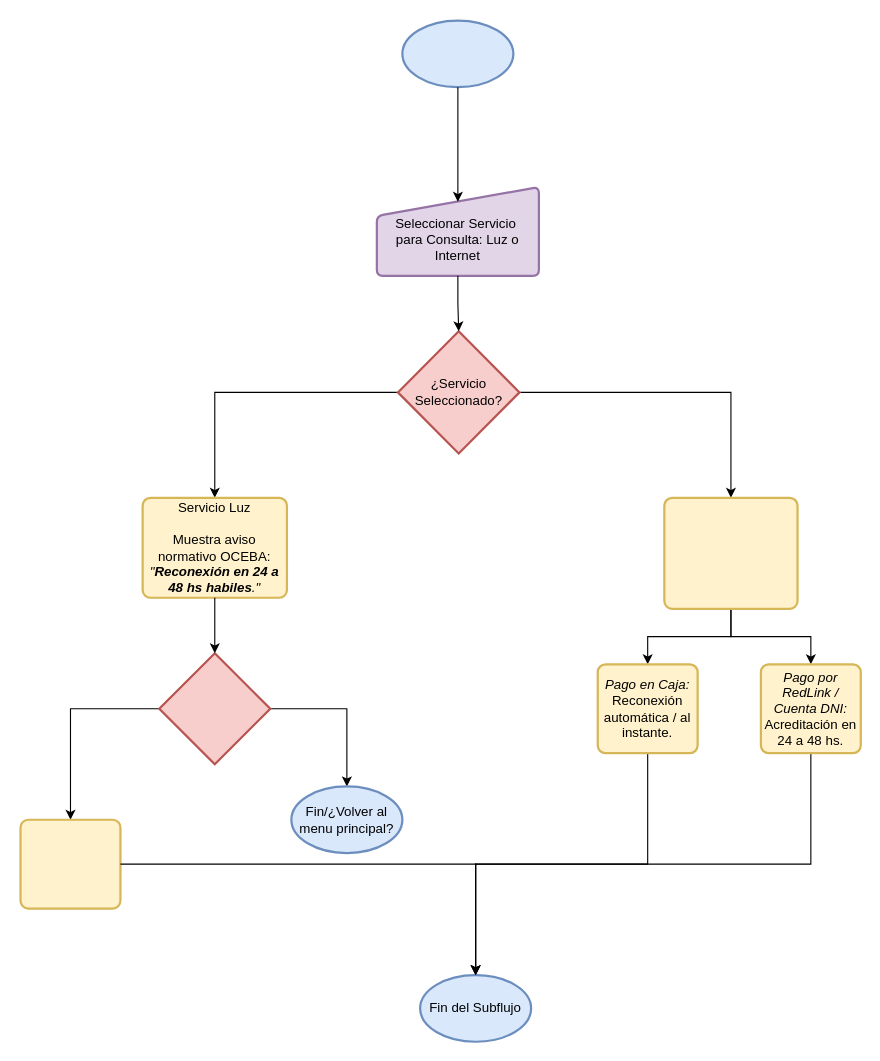
Image size: 880x1061. Some labels were removed from this diagram. The shapes that lost their labels are listed below. From the top down, each one's centre as x and y in pixels, then its label:
the point at 457,53: Inicio del Subflujo
the point at 730,552: Servicio Internet Muestra diferencación por medio de pago:
the point at 214,708: ¿Hubo retiro de medidor?
the point at 70,863: Muestra: " Requiere verificación de pilar. Plazo de 48 a 72 hs ."
